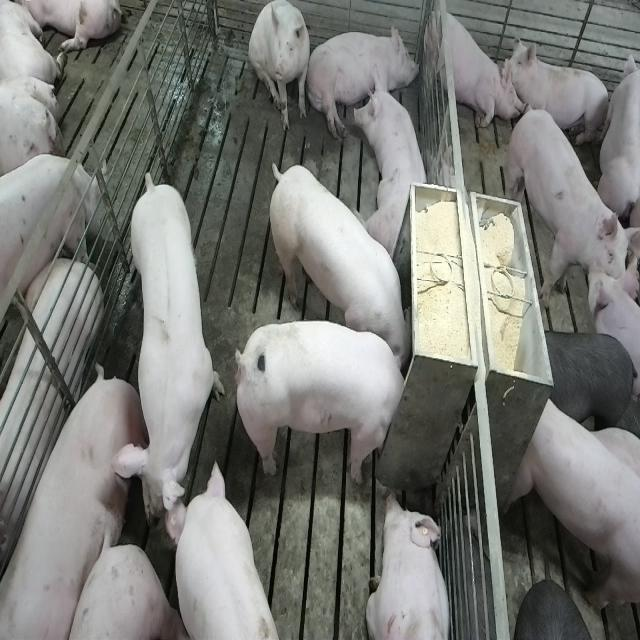Feeding: (263, 160, 412, 368), (231, 318, 408, 484)
Lateral_lying: (0, 368, 148, 640), (306, 22, 419, 141)
Sitting: (424, 0, 518, 136), (249, 1, 312, 134)
Standing: (118, 173, 220, 539), (508, 394, 638, 618), (504, 109, 630, 320), (161, 459, 280, 640), (0, 157, 100, 346), (543, 324, 637, 440)
Sternal_lying: (356, 68, 432, 259), (366, 490, 453, 640), (505, 37, 610, 151)
